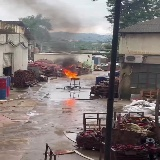fire: (63, 69, 79, 79)
